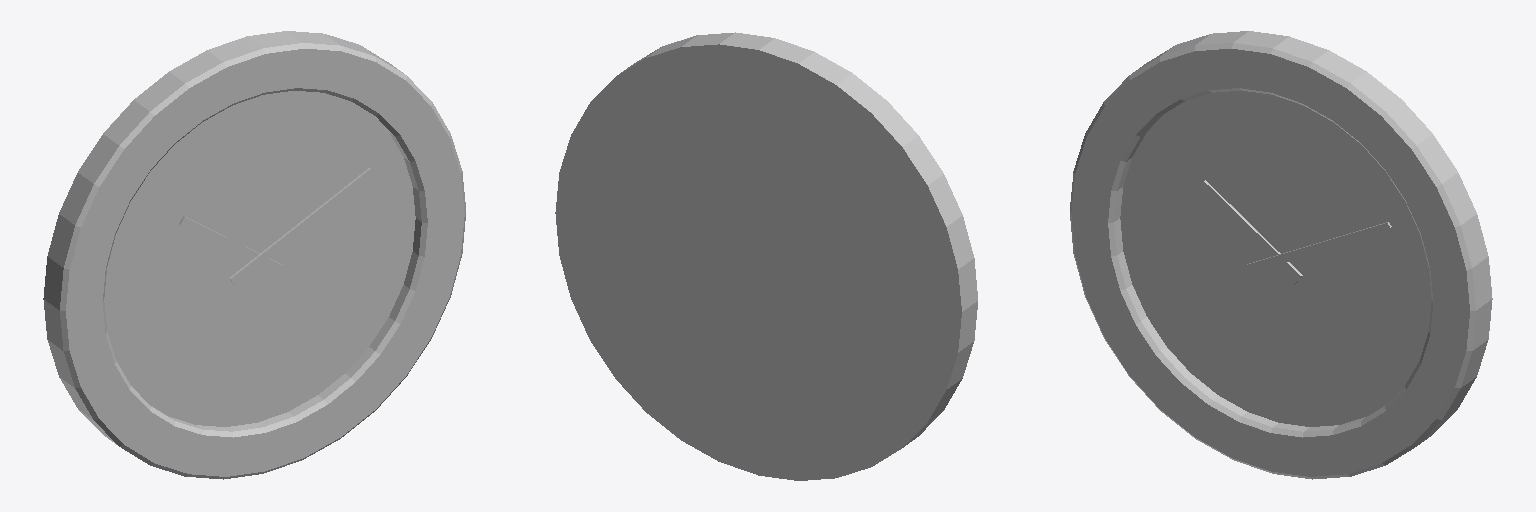
The model's file is WallClock_LP_not_second.obj.
3 renders of one model, left to right at view 1: azimuth 30°, elevation 25°; view 2: azimuth 150°, elevation 25°; view 3: azimuth 330°, elevation 25°, orthographic.
Parts seen in each view (by area): view 1: Clock_LP, Minutes_Pointer, Hours_Pointer; view 2: Clock_LP; view 3: Clock_LP, Hours_Pointer, Minutes_Pointer.
Boxes of the visible parts, <box> form: Clock_LP: <box>43,31,465,479</box>; Minutes_Pointer: <box>230,168,373,285</box>; Hours_Pointer: <box>179,216,281,275</box>; Clock_LP: <box>555,32,977,480</box>; Clock_LP: <box>1070,31,1492,479</box>; Hours_Pointer: <box>1200,180,1302,284</box>; Minutes_Pointer: <box>1247,222,1391,273</box>.
Size of the model in its own units: 316 by 316 by 25.